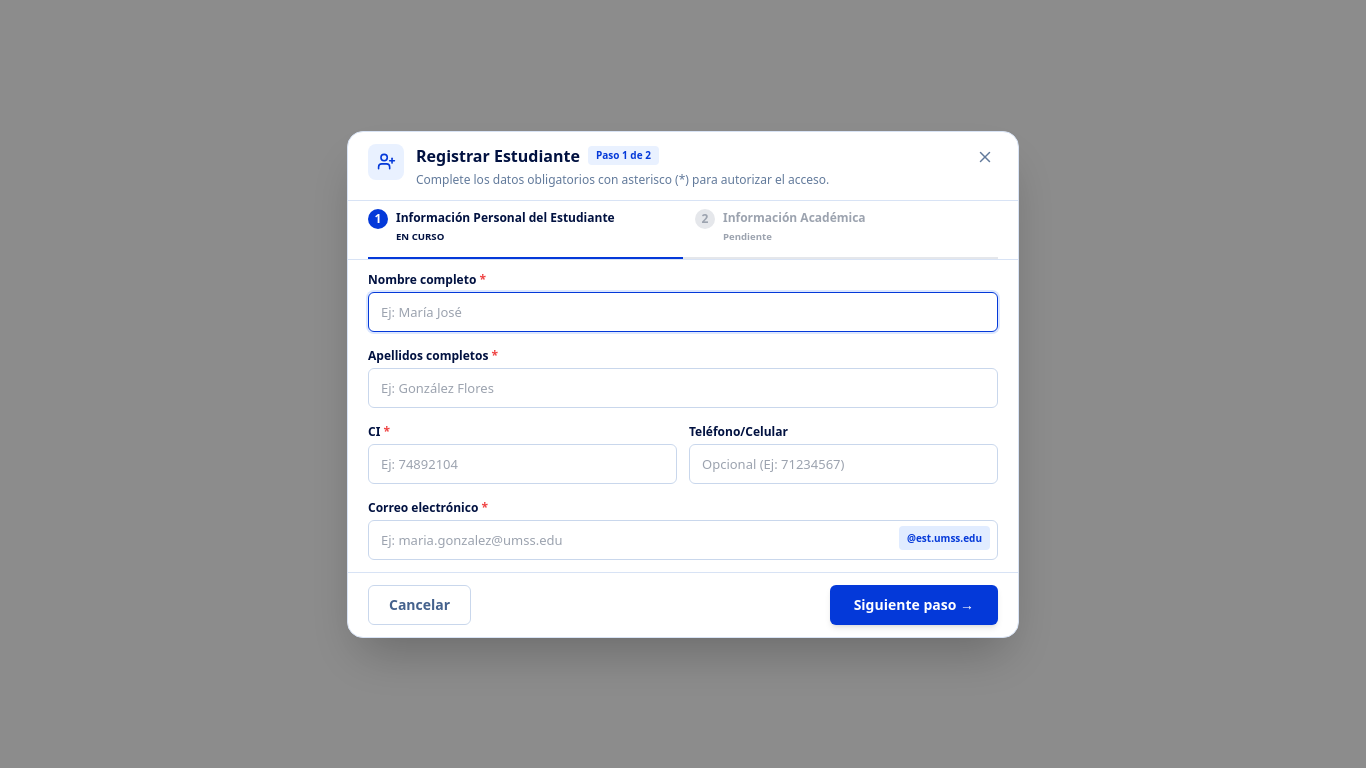
Test: RegistrarEstudianteModal › aplica las mismas restricciones de usuario a CI y correo institucional
Type "María" into the field with placeholder "Ej: María José".
click(683, 312); type("María")  # box [368, 292, 998, 332]
Type "González" into the field with placeholder "Ej: González Flores".
click(683, 388); type("González")  # box [368, 368, 998, 408]
Type "12ab" into the field with placeholder "Ej: 74892104".
click(522, 464); type("12ab")  # box [368, 444, 677, 484]
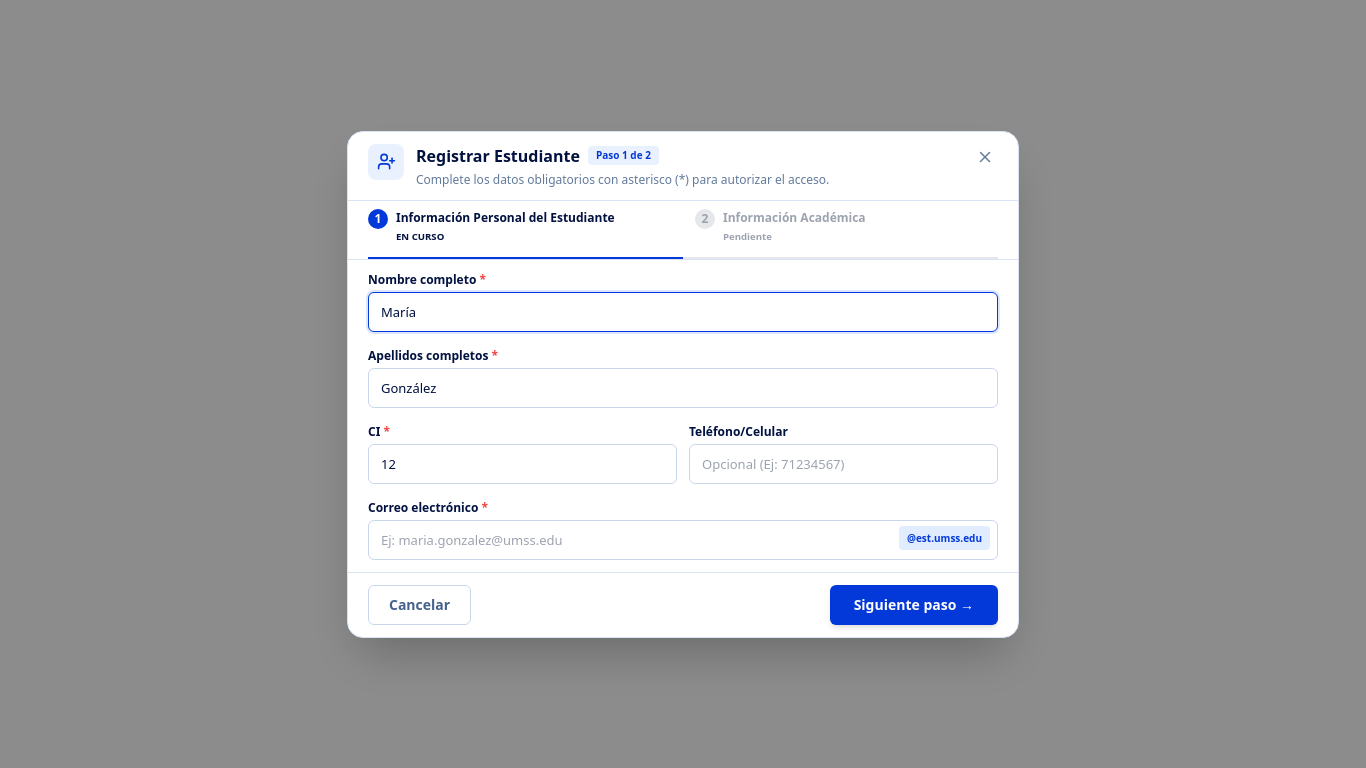
Result: the field with placeholder "Ej: 74892104" holds "12" at [368, 444, 677, 484]
Type "maria@gmail.com" into the field with placeholder "Ej: maria.gonzalez@umss.edu".
click(683, 540); type("maria@gmail.com")  # box [368, 520, 998, 560]
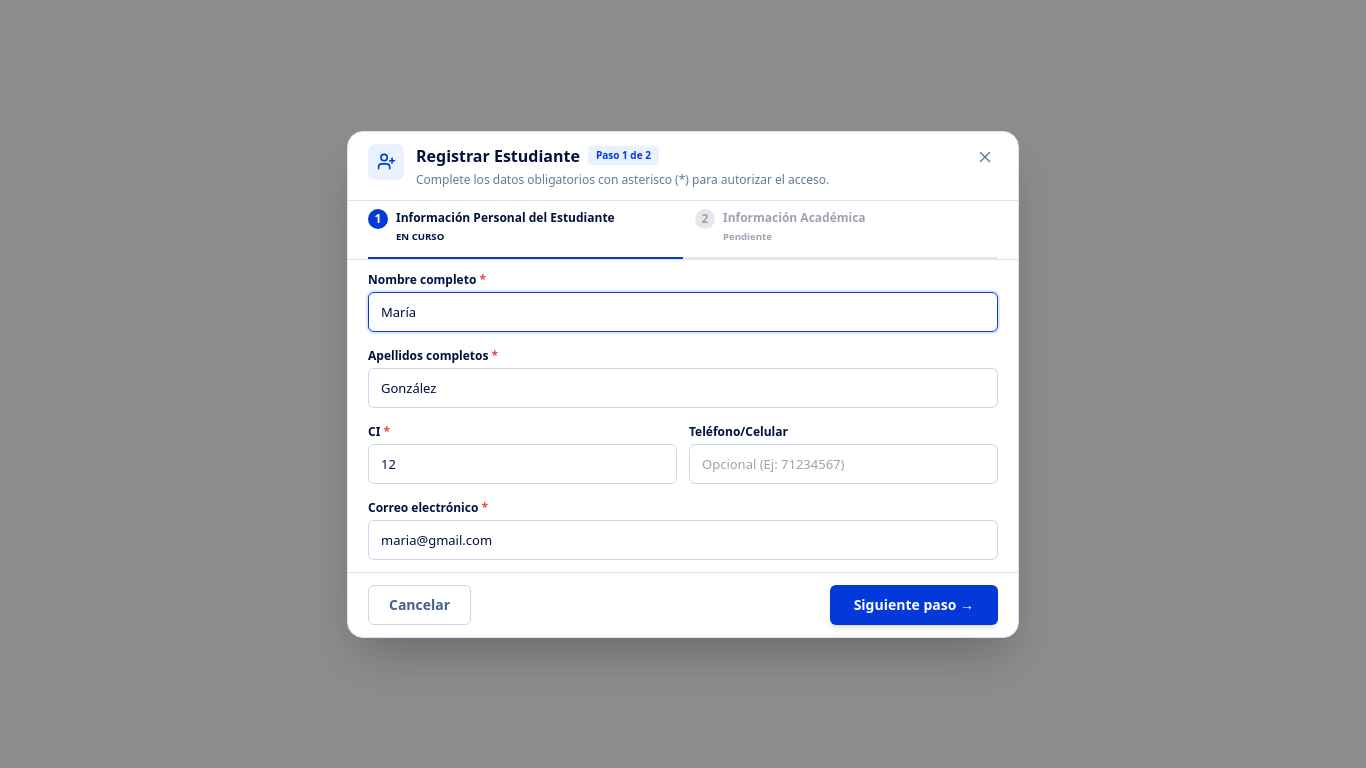
Click the button "Siguiente paso →".
click(914, 604)  # box [830, 584, 998, 624]
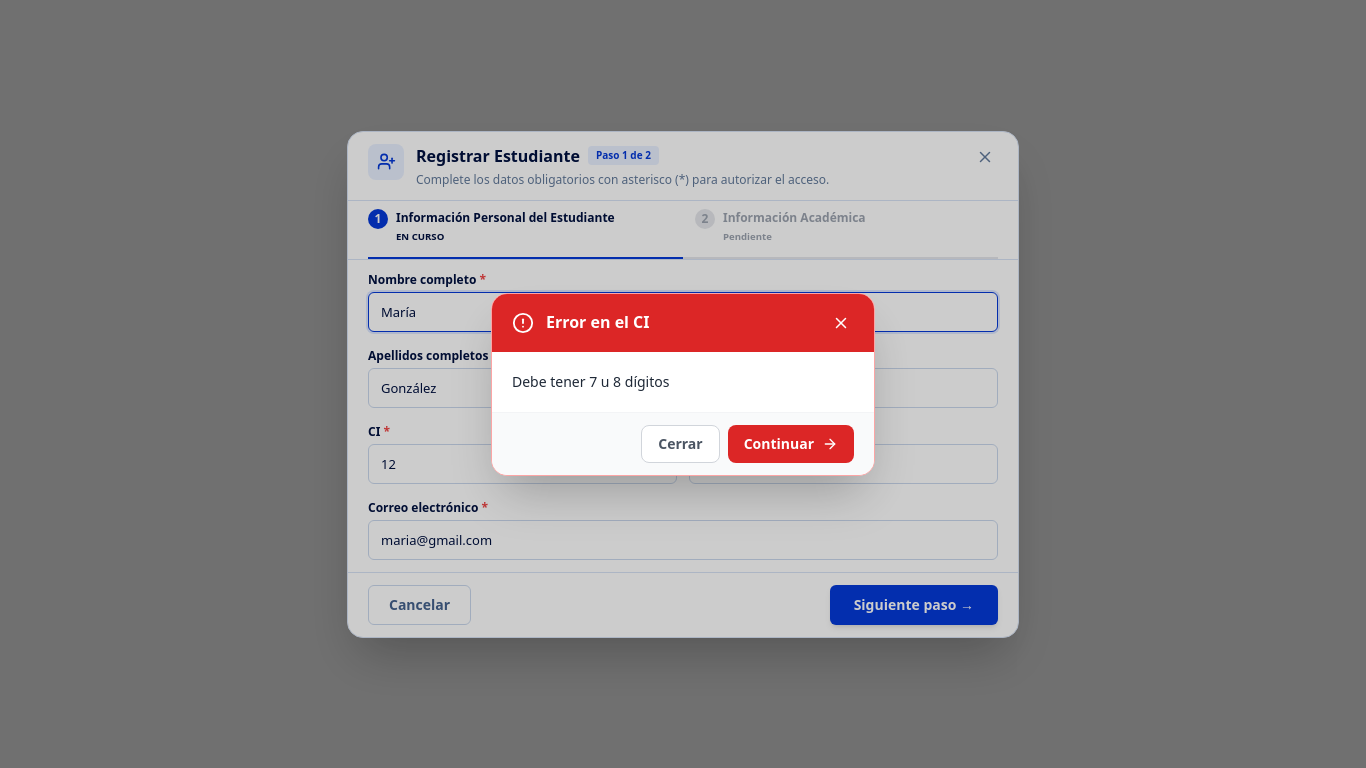
Result: the heading "Error en el CI" is shown at [546, 310, 650, 334]
Result: the text "Debe tener 7 u 8 dígitos" is shown at [512, 372, 670, 390]
Click the button "Continuar".
click(791, 444)  # box [728, 424, 854, 462]
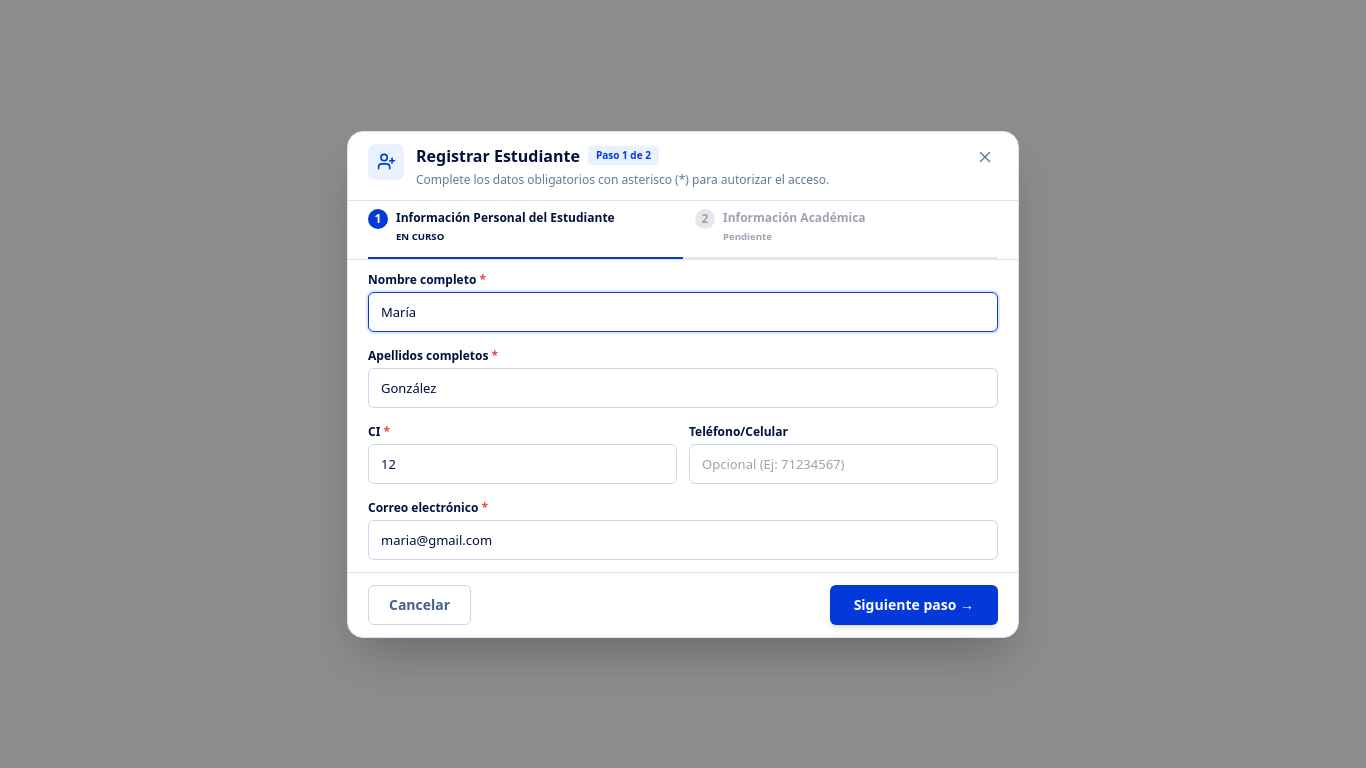
Replace the text in the field with placeholder "Ej: 74892104" with "74892104" at (522,464), box [368, 444, 677, 484]
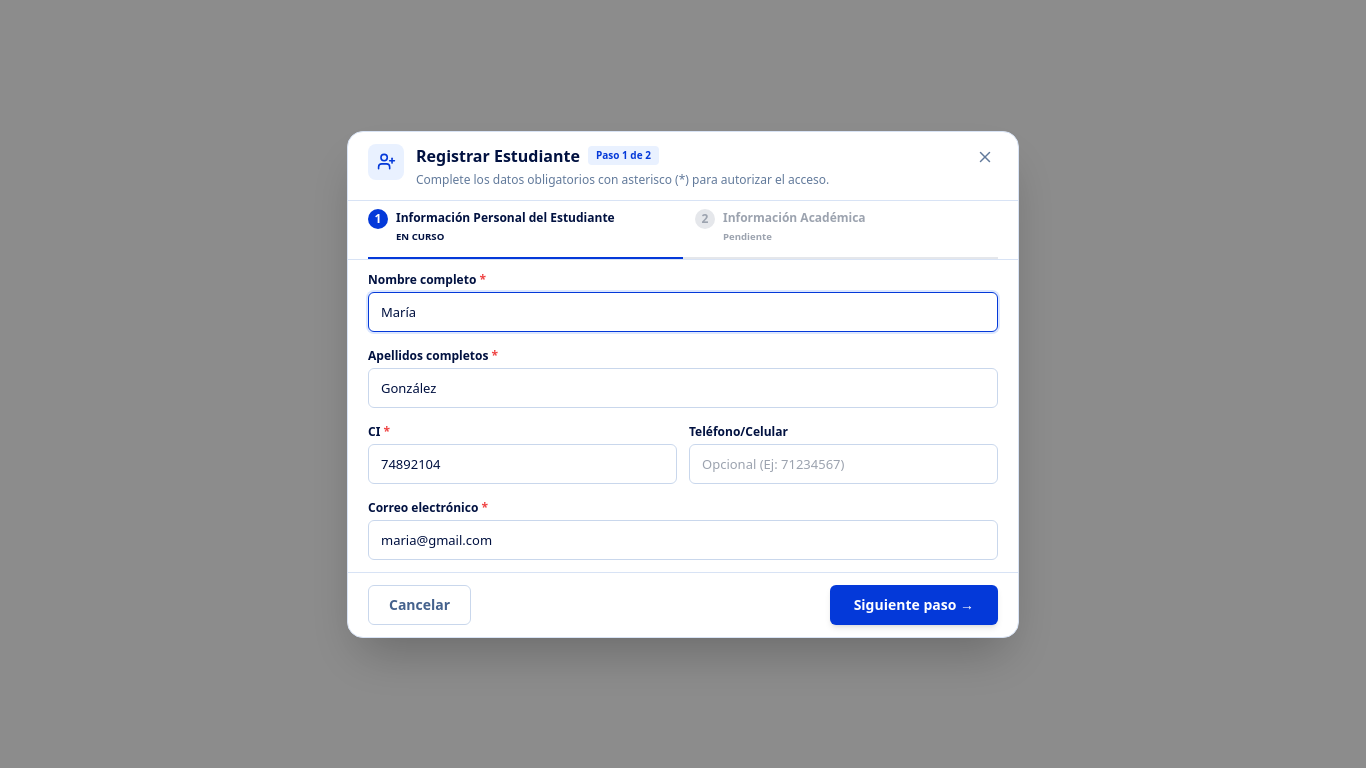
Click the button "Siguiente paso →".
click(914, 604)  # box [830, 584, 998, 624]
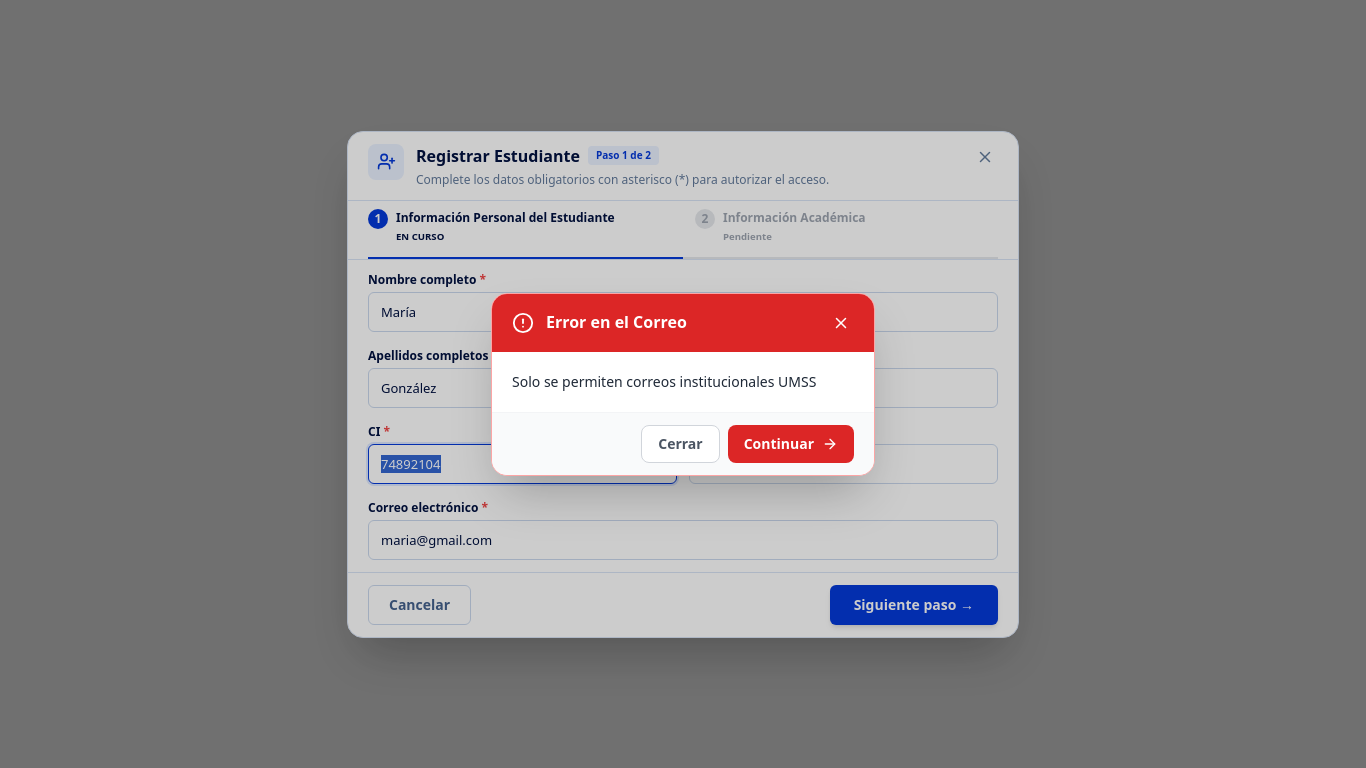
Result: the heading "Error en el Correo" is shown at [546, 310, 687, 334]
Result: the text "Solo se permiten correos institucionales UMSS" is shown at [512, 372, 854, 392]
